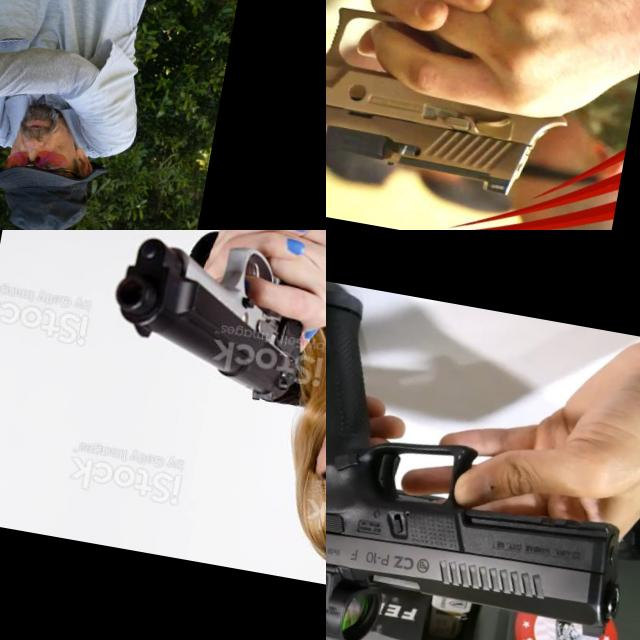handgun: (326, 271, 640, 640), (326, 0, 584, 209), (93, 230, 321, 409), (0, 65, 47, 132)
